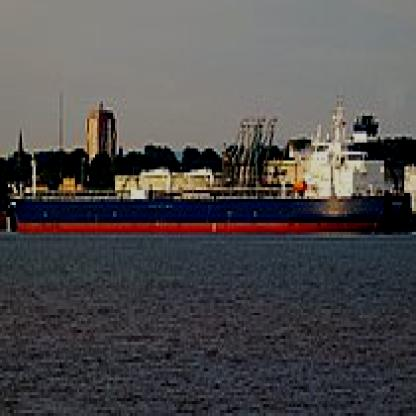Tanker: (6, 158, 410, 241)
